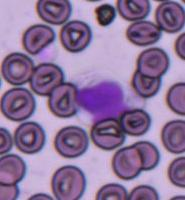M: (74, 76, 131, 124)
